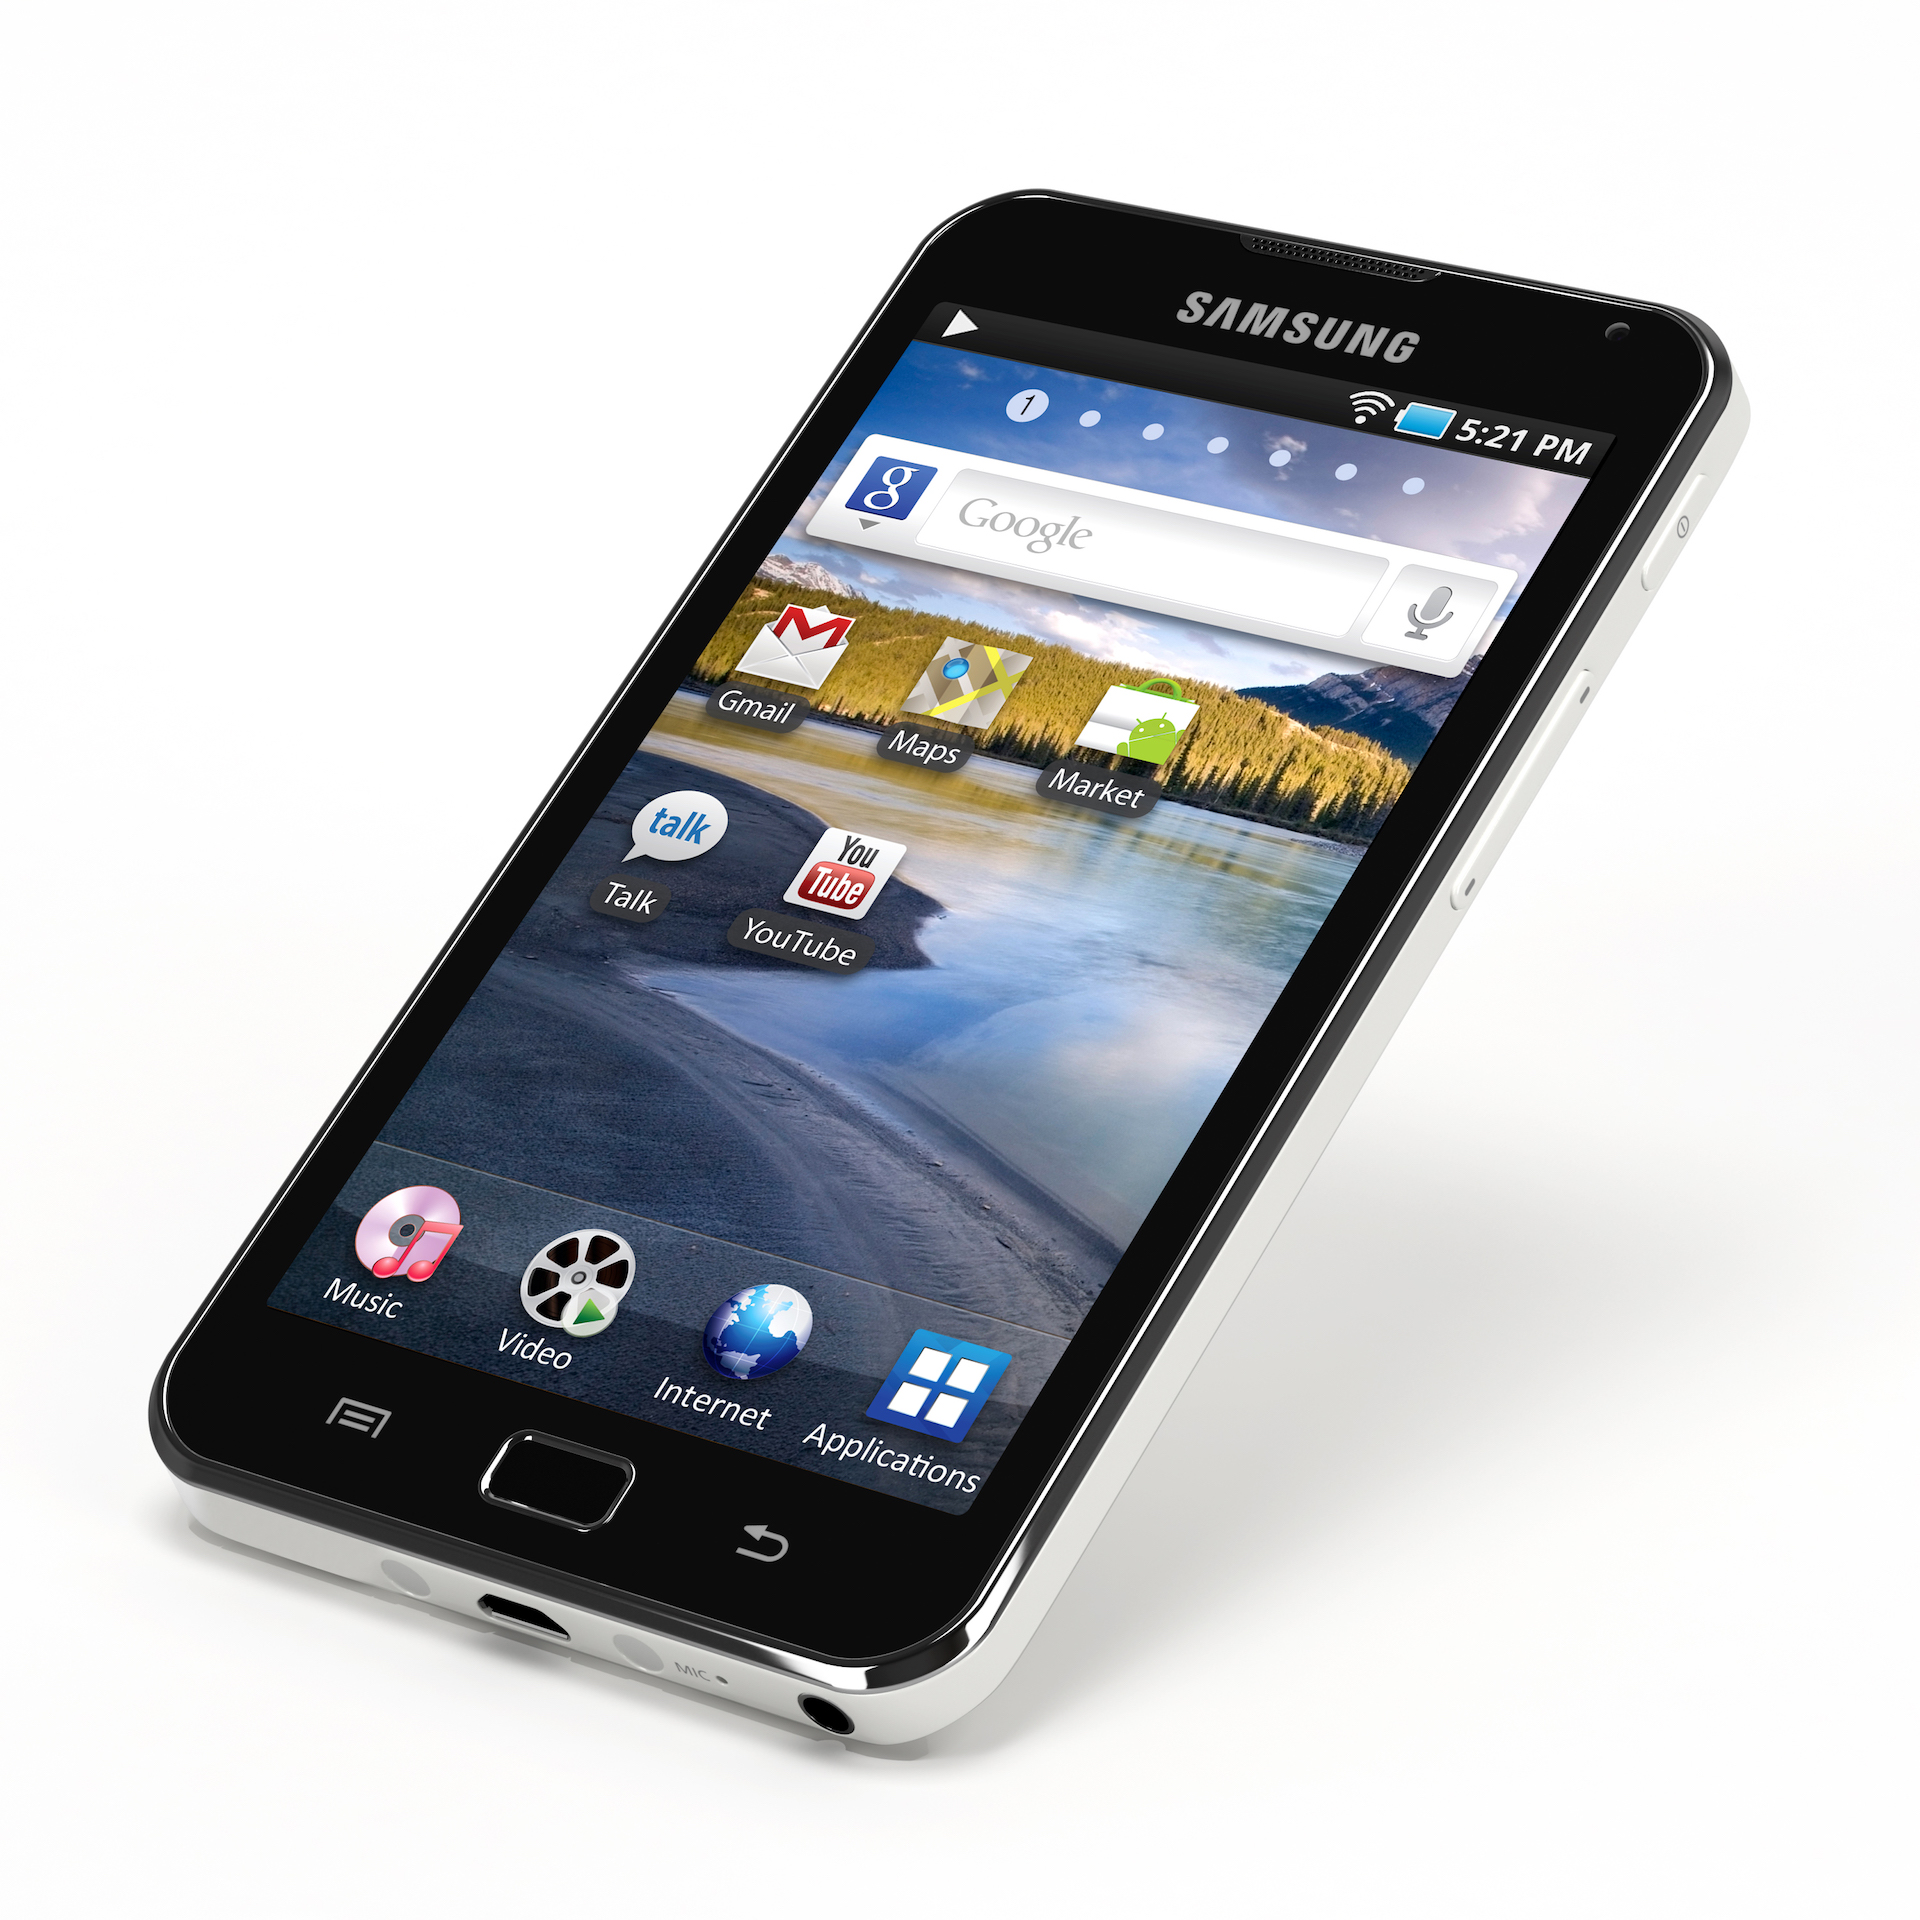smartphone: (148, 185, 1760, 1749)
